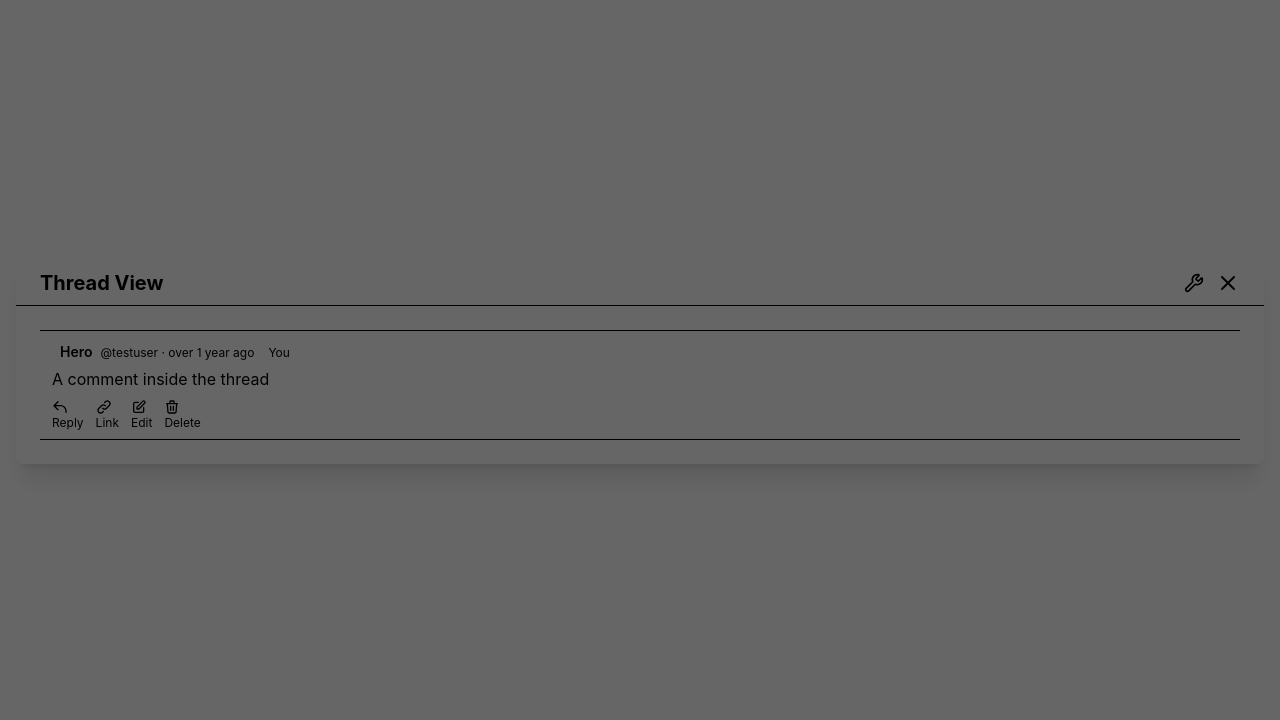
ThreadViewModal + utility drawer › keeps the thread open and scroll locked after the drawer closes
The width and height of the screenshot is (1280, 720).
Click the button named "Utilities".
click(1194, 282)  # box [1184,272,1204,292]
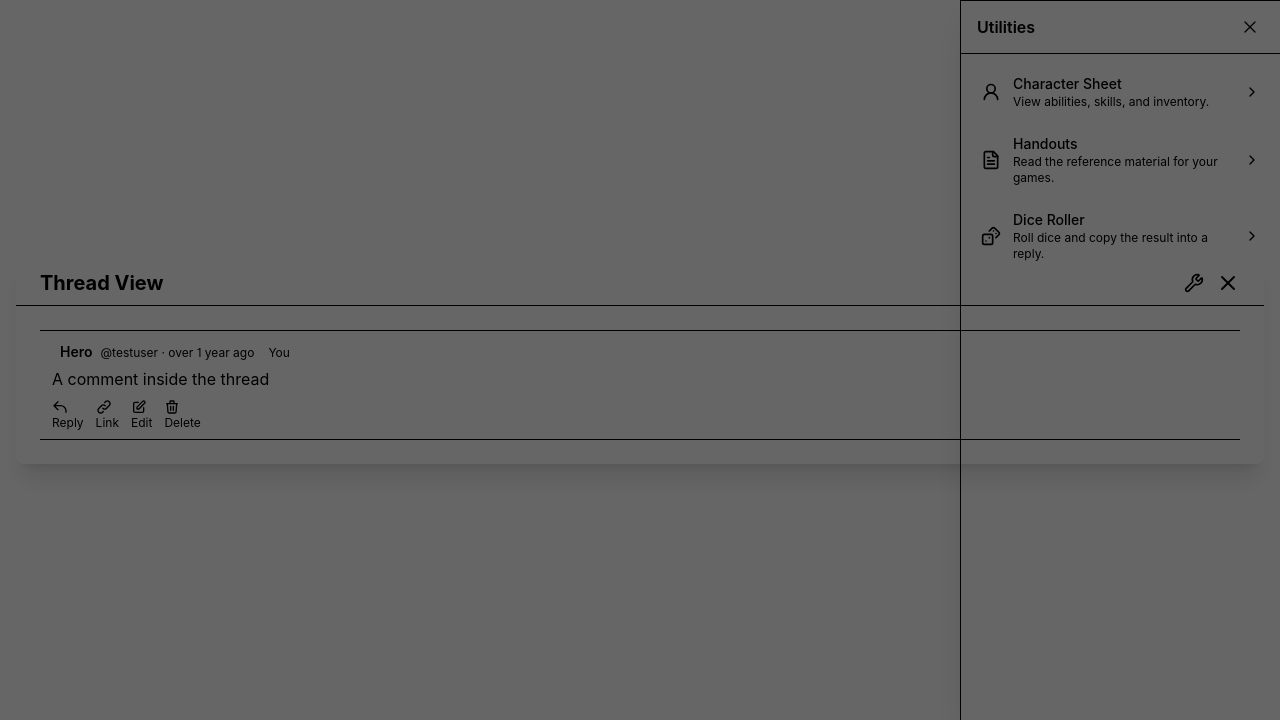
Now the list with test id "utility-list" is shown, box [961,54,1279,282]
Click the button named "Close".
click(1250, 27)  # box [1236,13,1264,41]
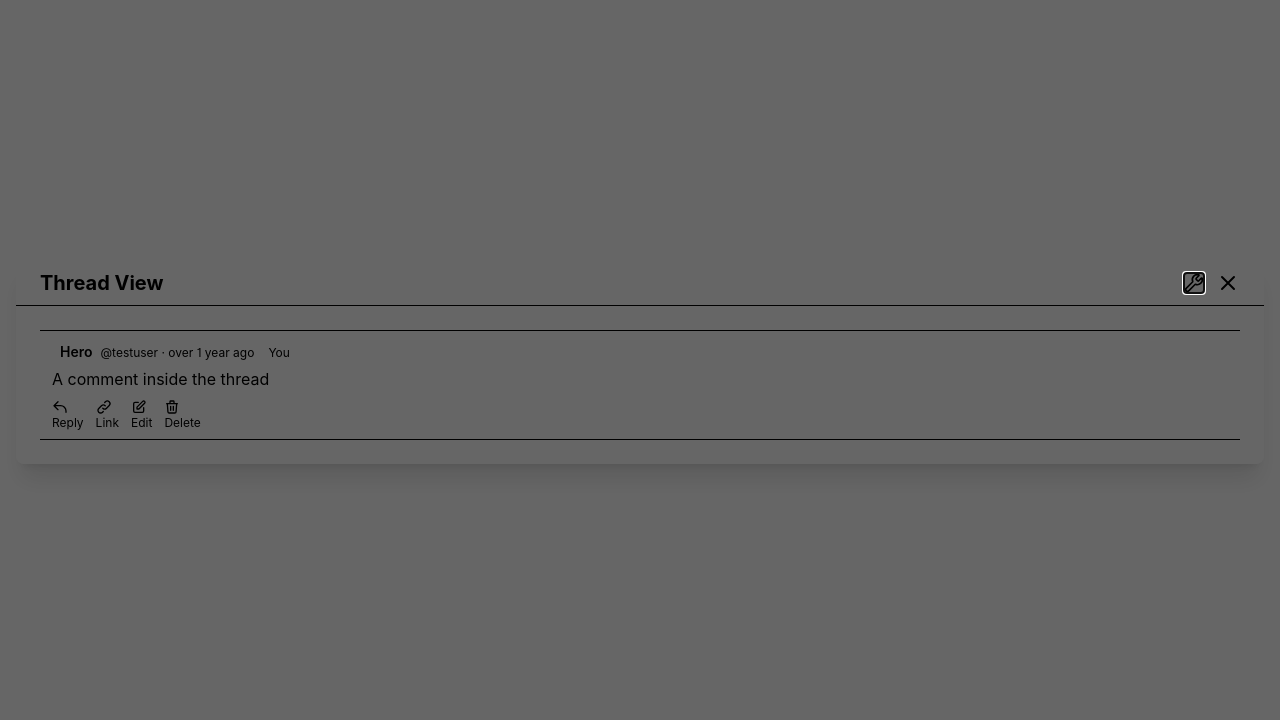
Expected: the heading "Thread View" is shown, [40,268,164,296]
Now the list with test id "utility-list" is gone
